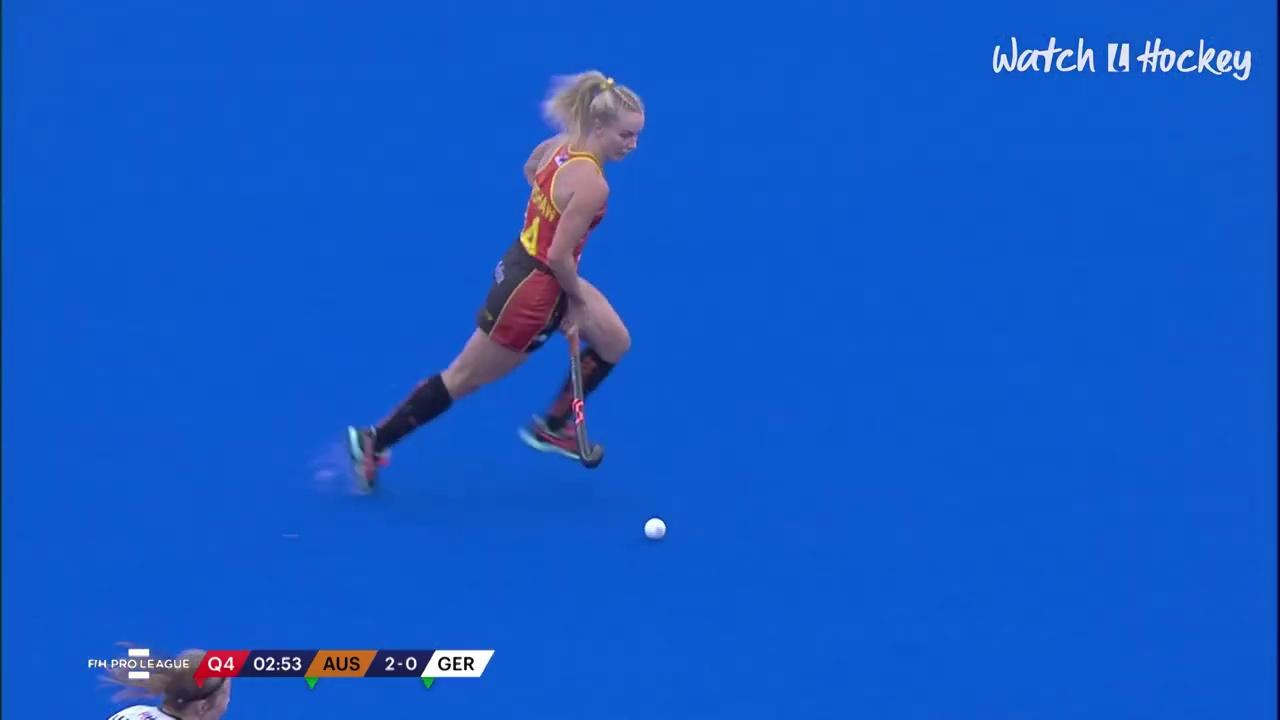ball: (622, 484, 687, 555)
